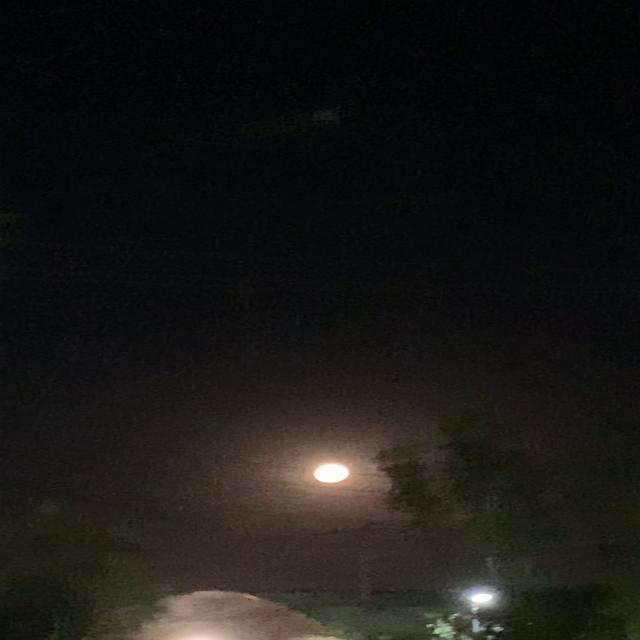moon: (301, 463, 354, 488)
